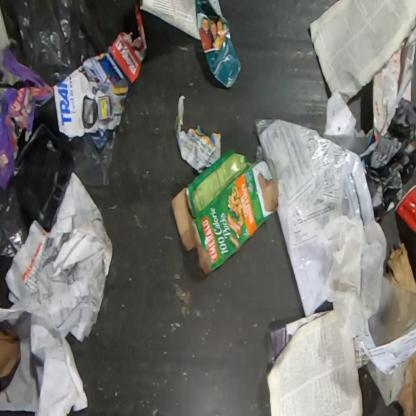cardboard: (170, 149, 278, 277), (372, 21, 415, 144), (0, 321, 21, 396)
rigid_plastic: (11, 108, 72, 230), (393, 159, 415, 257)
soft_plastic: (255, 118, 375, 317), (359, 21, 415, 222), (0, 0, 106, 87), (67, 127, 118, 186), (0, 187, 35, 256)
